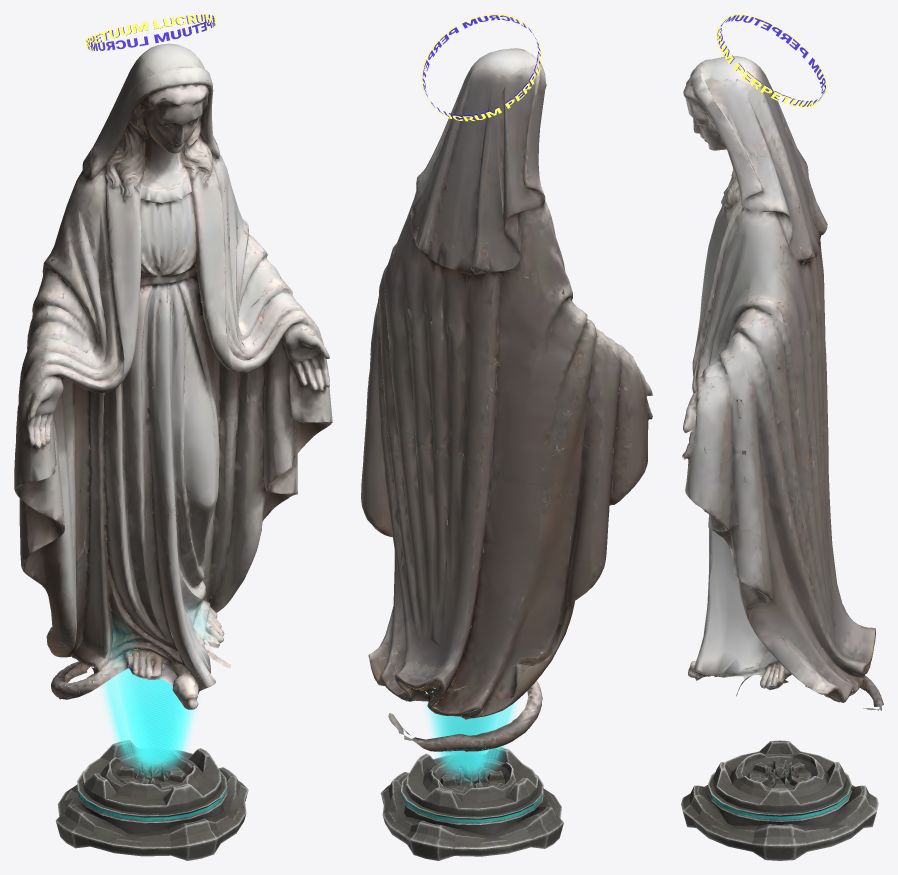
Rendered from CyberpunkMaryHeart1.glb.
The picture shows the model from 3 angles, left to right: view 1: azimuth 30°, elevation 25°; view 2: azimuth 150°, elevation 25°; view 3: azimuth 270°, elevation 25°; orthographic projection. The views are drawn at different scales.
Visible parts, largest first — view 1: statue, Object_2, Object_3, HaloText1, HaloText2; view 2: statue, Object_2, Object_3, HaloText1, HaloText2; view 3: statue, Object_2, HaloText1, HaloText2.
Part boxes in pixels (bbox=[...]): statue: bbox=[14, 43, 332, 709]; Object_2: bbox=[56, 740, 248, 860]; Object_3: bbox=[102, 607, 205, 775]; HaloText1: bbox=[85, 14, 216, 51]; HaloText2: bbox=[86, 14, 215, 50]; statue: bbox=[361, 48, 652, 751]; Object_2: bbox=[380, 747, 563, 860]; Object_3: bbox=[426, 626, 516, 780]; HaloText1: bbox=[421, 14, 542, 121]; HaloText2: bbox=[422, 15, 540, 119]; statue: bbox=[682, 56, 883, 710]; Object_2: bbox=[681, 740, 878, 860]; HaloText1: bbox=[716, 14, 827, 107]; HaloText2: bbox=[717, 15, 825, 106].
Size of the model in its own units: 0.4211 by 1.12 by 0.2603.
Materials: 10 (6 with a texture image).
